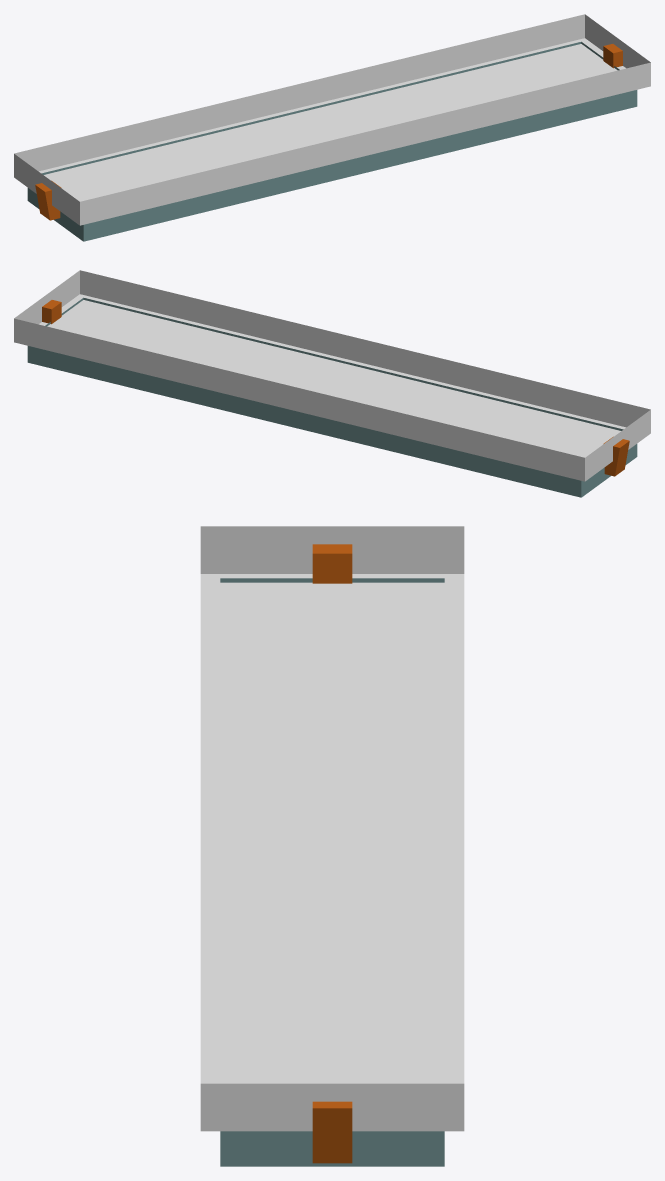
Rendered from Lamp_ceiling.fbx.
3 renders of one model, top to bottom at view 1: azimuth 30°, elevation 25°; view 2: azimuth 150°, elevation 25°; view 3: azimuth 270°, elevation 25°, orthographic. The views are drawn at different scales.
Parts seen in each view (by area): view 1: polySurface261; view 2: polySurface261; view 3: polySurface261.
Boxes of the visible parts, bbox=[...] form: polySurface261: bbox=[14, 14, 650, 241]; polySurface261: bbox=[14, 270, 650, 497]; polySurface261: bbox=[200, 526, 464, 1166].
Bounding box in the file's own units: 205 × 40 × 15.28.
